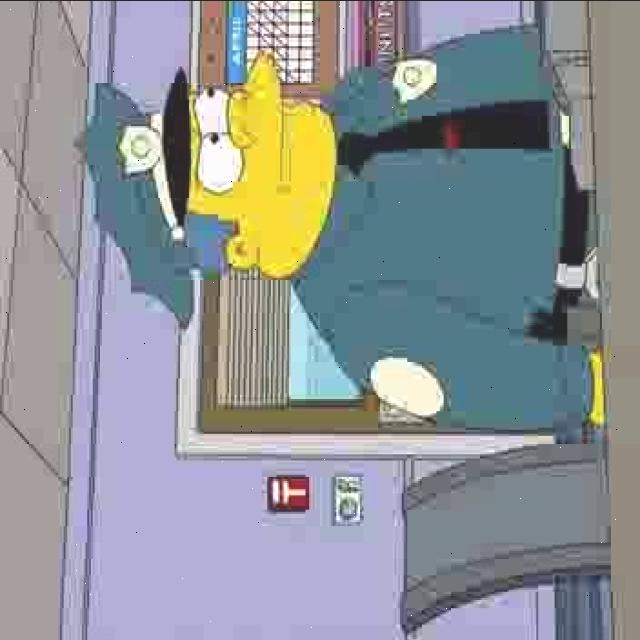Chief Wiggam: (72, 44, 338, 329)
